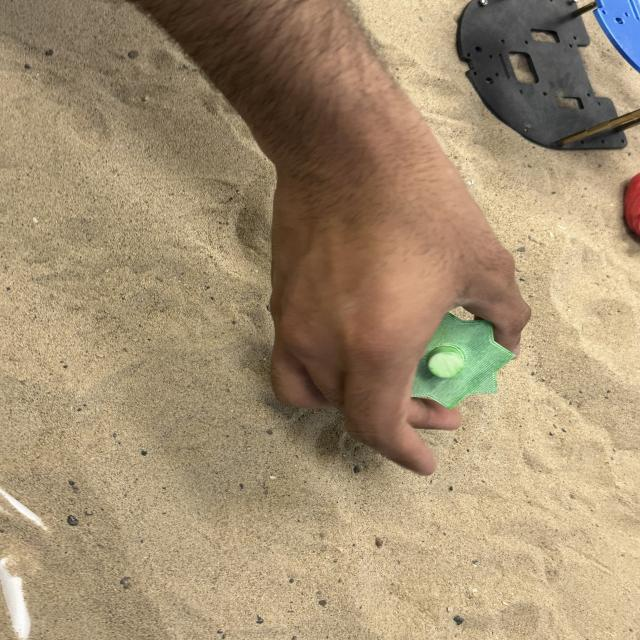tree: (413, 314, 512, 405)
